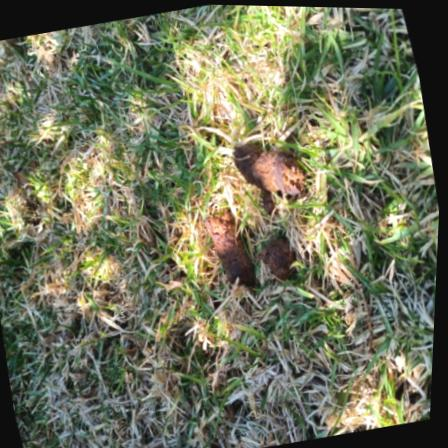dog-poop: (194, 192, 307, 306), (224, 133, 309, 205)
